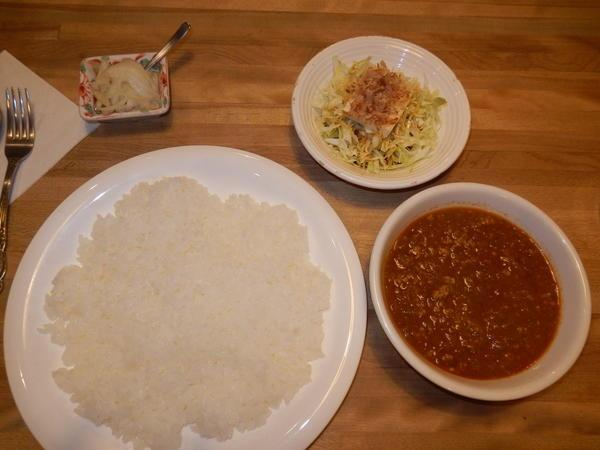plate: (4, 146, 366, 449)
rice: (39, 177, 332, 449)
